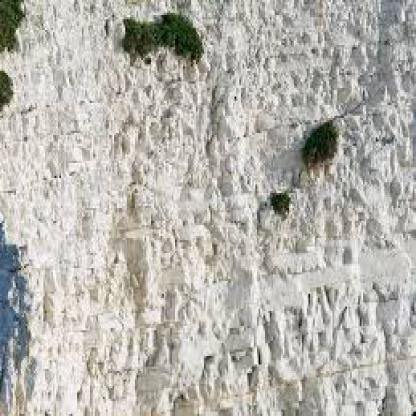Sedimentary_Chalk: (342, 116, 415, 414), (112, 73, 185, 358), (224, 0, 414, 107), (30, 8, 100, 244), (38, 255, 111, 414), (295, 172, 339, 412), (190, 218, 242, 412), (242, 216, 292, 414), (201, 122, 260, 208)
